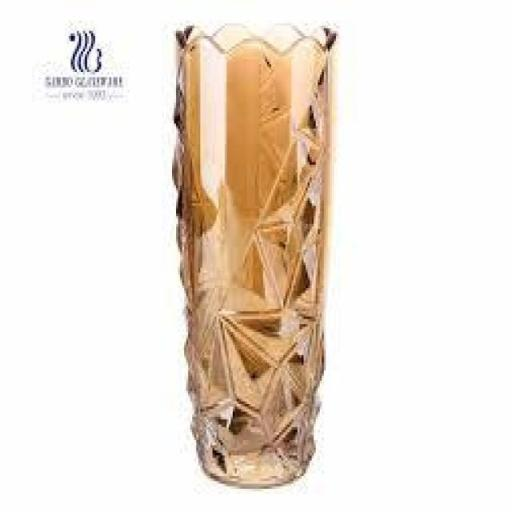glass: (168, 26, 373, 486)
